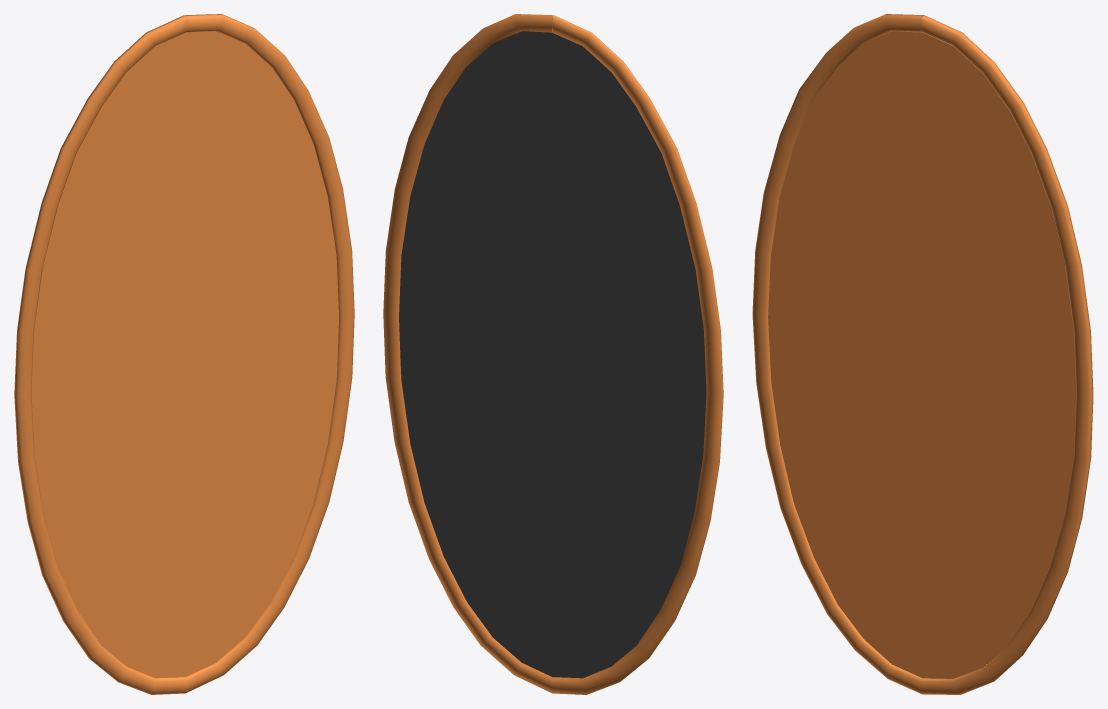
The model's file is Oval_Miror.fbx.
3 views of the same model, side by side, from view 1: azimuth 30°, elevation 25°; view 2: azimuth 150°, elevation 25°; view 3: azimuth 330°, elevation 25° (orthographic).
Visible parts, largest first — view 1: ovalMirror.001, ovalMirror; view 2: ovalMirror; view 3: ovalMirror.001, ovalMirror.
Boxes of the visible parts, x1,y1,x2,y2 form: ovalMirror.001: [31, 31, 338, 678]; ovalMirror: [14, 14, 354, 694]; ovalMirror: [383, 14, 723, 694]; ovalMirror.001: [768, 31, 1076, 678]; ovalMirror: [752, 14, 1093, 694].
Bounding box in the file's own units: 5490 × 10488 × 99.89.
